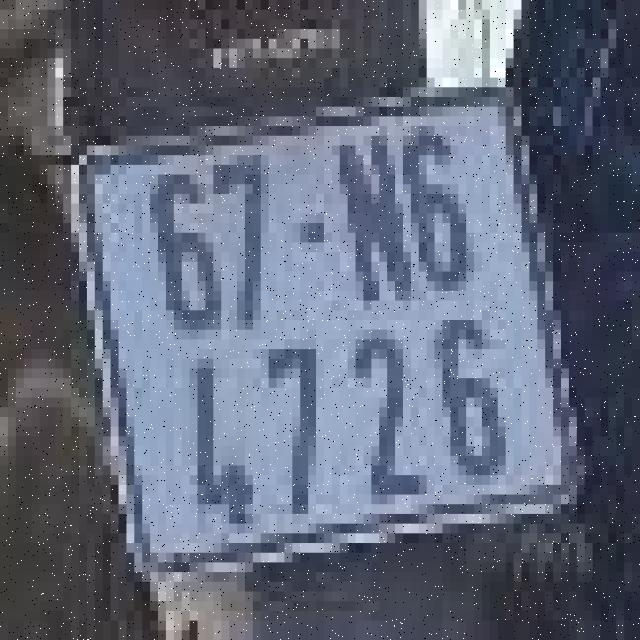2: (336, 313, 446, 508)
4: (174, 343, 272, 549)
6: (421, 301, 534, 503), (138, 160, 234, 352), (395, 121, 488, 304)
7: (254, 323, 345, 536), (199, 141, 293, 339)
N: (320, 117, 425, 313)
